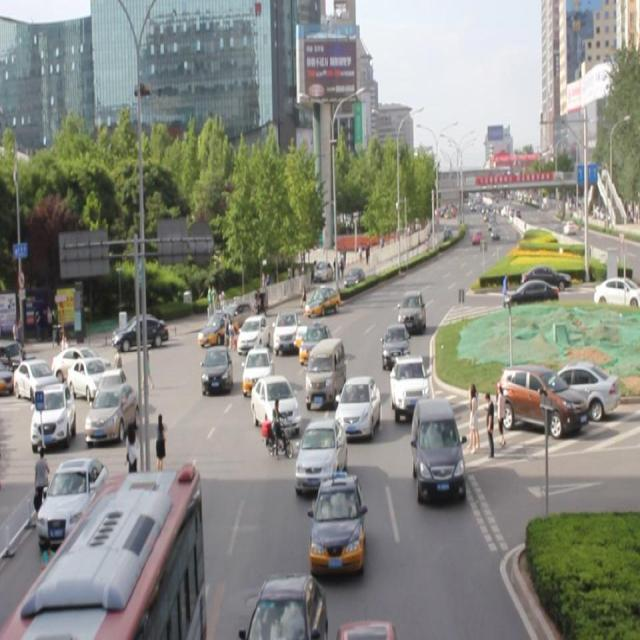car: (245, 569, 325, 640), (412, 396, 462, 496), (312, 476, 364, 572), (296, 418, 347, 493), (250, 374, 300, 434), (334, 376, 380, 440), (390, 350, 426, 417), (336, 611, 395, 640), (304, 316, 338, 362), (242, 345, 273, 395), (274, 307, 304, 357), (381, 321, 410, 369), (201, 344, 231, 390), (311, 279, 348, 315), (237, 313, 269, 354), (398, 289, 424, 331)
truck: (304, 336, 347, 405)
van: (17, 469, 206, 640)
